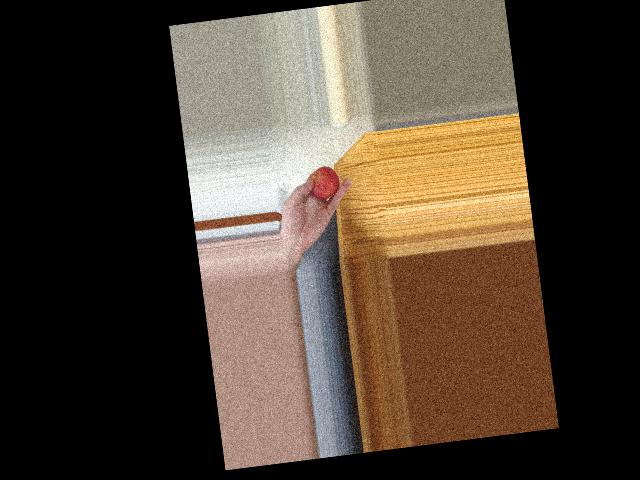apple: (302, 164, 341, 205)
